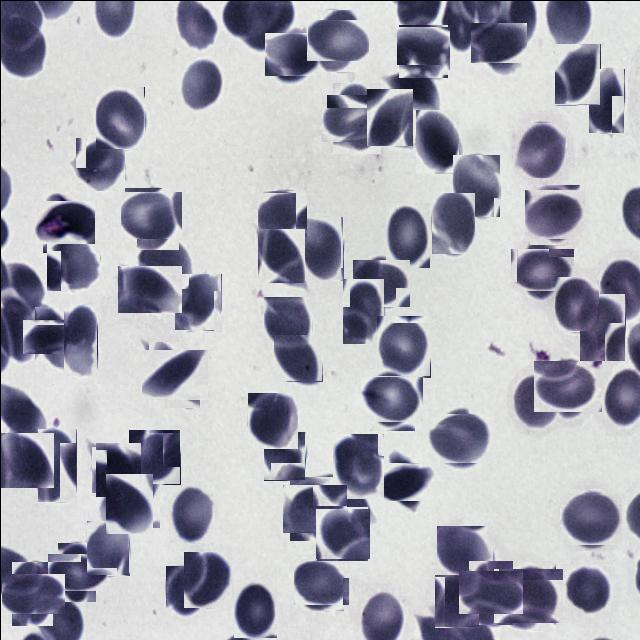red blood cell: (497, 564, 559, 626), (538, 356, 598, 416), (326, 88, 386, 148), (144, 344, 202, 404), (332, 433, 384, 499), (122, 189, 180, 247), (376, 314, 430, 376), (430, 409, 488, 466), (562, 490, 618, 548), (285, 480, 342, 536), (526, 186, 582, 242), (579, 293, 625, 361), (95, 86, 144, 149), (452, 154, 500, 217), (117, 265, 181, 312), (101, 476, 156, 530), (436, 525, 492, 578), (364, 372, 418, 426), (463, 564, 517, 618), (0, 432, 53, 487), (37, 428, 76, 502), (385, 202, 429, 267), (128, 429, 180, 484), (554, 42, 600, 104), (510, 373, 558, 432), (515, 243, 568, 296), (316, 506, 368, 560), (168, 481, 214, 542), (514, 122, 565, 177), (247, 392, 297, 448), (382, 64, 440, 112), (342, 278, 384, 344), (5, 567, 58, 619), (46, 238, 98, 291), (415, 109, 458, 173), (431, 192, 475, 254), (174, 272, 221, 330), (354, 256, 406, 308), (311, 14, 363, 66), (38, 196, 90, 248), (183, 551, 231, 607), (366, 86, 412, 144), (562, 563, 611, 617), (302, 216, 343, 280), (397, 25, 448, 76), (136, 238, 188, 288), (263, 294, 311, 348), (74, 138, 124, 189), (257, 228, 304, 282), (296, 557, 346, 607), (93, 444, 143, 494), (233, 579, 276, 637), (554, 276, 599, 331), (378, 456, 428, 505), (63, 304, 97, 376), (178, 56, 222, 111), (266, 30, 316, 78), (434, 574, 479, 627), (86, 520, 129, 575), (51, 548, 100, 596), (588, 68, 624, 133), (257, 190, 305, 238), (474, 18, 522, 66), (273, 334, 322, 381), (28, 312, 75, 360), (165, 565, 205, 617), (263, 431, 305, 480)
